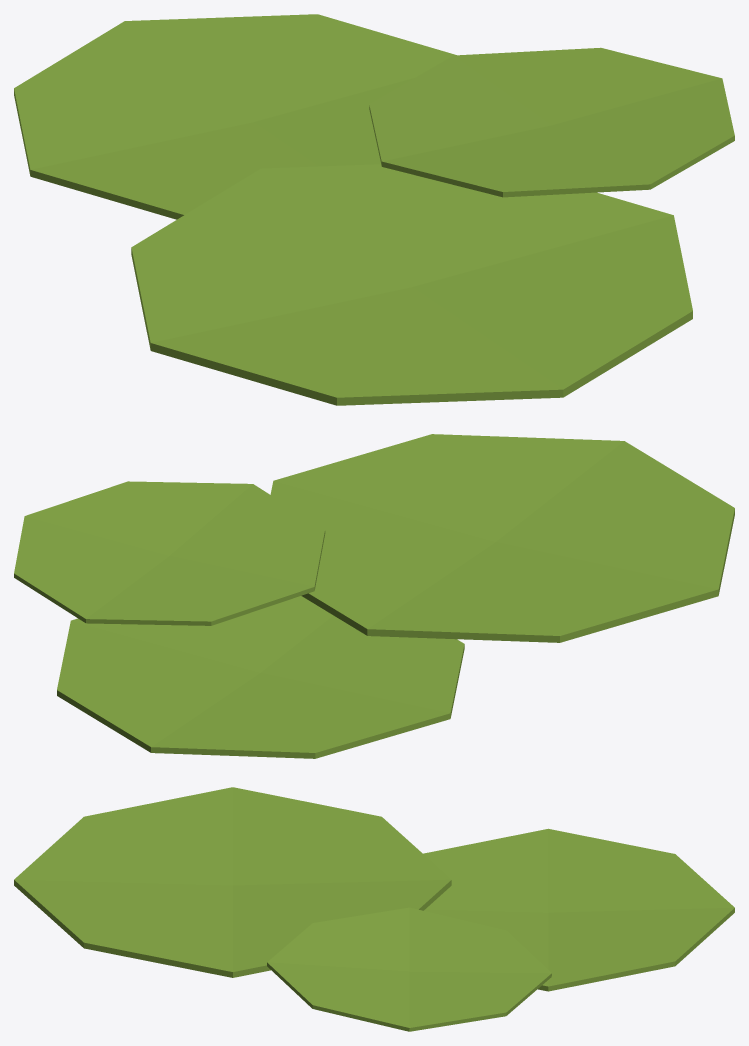
The model's file is orchid_set.fbx.
3 renders of one model, top to bottom at view 1: azimuth 30°, elevation 25°; view 2: azimuth 150°, elevation 25°; view 3: azimuth 270°, elevation 25°, orthographic. The views are drawn at different scales.
Parts seen in each view (by area): view 1: orchid_set_geo; view 2: orchid_set_geo; view 3: orchid_set_geo.
Boxes of the visible parts, bbox=[...] form: orchid_set_geo: bbox=[14, 14, 734, 405]; orchid_set_geo: bbox=[14, 434, 734, 758]; orchid_set_geo: bbox=[14, 787, 734, 1031].
Size of the model in its own units: 39.77 by 2.04 by 49.41.
1 material, 1 textured.
